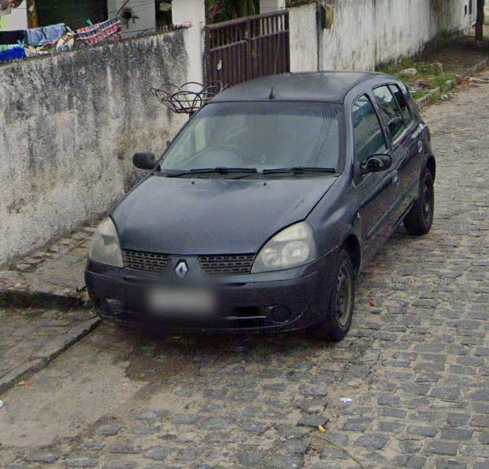car: (83, 38, 437, 342)
